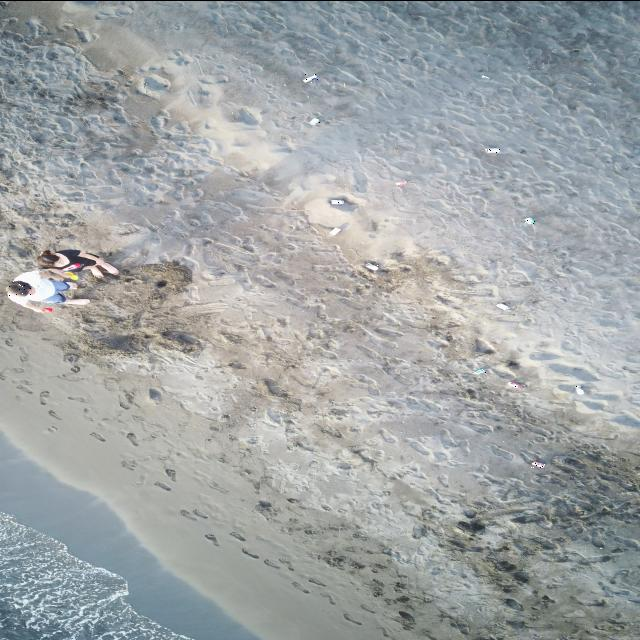Garbage: (476, 336, 495, 352), (364, 260, 379, 271), (508, 380, 524, 388), (328, 227, 342, 236), (304, 74, 318, 83), (64, 271, 77, 280), (395, 179, 407, 187), (495, 303, 508, 310), (532, 460, 544, 467), (575, 384, 584, 393), (329, 199, 344, 204), (473, 367, 484, 373), (484, 147, 500, 151), (524, 216, 533, 223), (308, 120, 320, 124), (43, 307, 51, 312), (480, 74, 488, 77)
